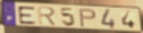4: (100, 8, 118, 30), (121, 10, 137, 30)
5: (60, 7, 77, 27)
E: (17, 6, 38, 25)
P: (78, 9, 98, 28)
R: (37, 6, 58, 27)
